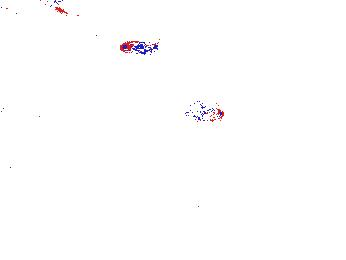red belly glassfish: (177, 104, 225, 124), (118, 39, 160, 55)
redtail glassfish: (1, 1, 69, 19)
